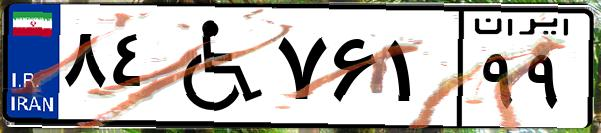1: (385, 28, 445, 110)
4: (110, 28, 158, 98)
6: (330, 28, 385, 110)
7: (270, 28, 330, 110)
8: (57, 26, 110, 100)
9: (475, 38, 525, 113), (525, 38, 570, 115)
ژ (معلولین و جانبازان): (158, 12, 270, 120)
